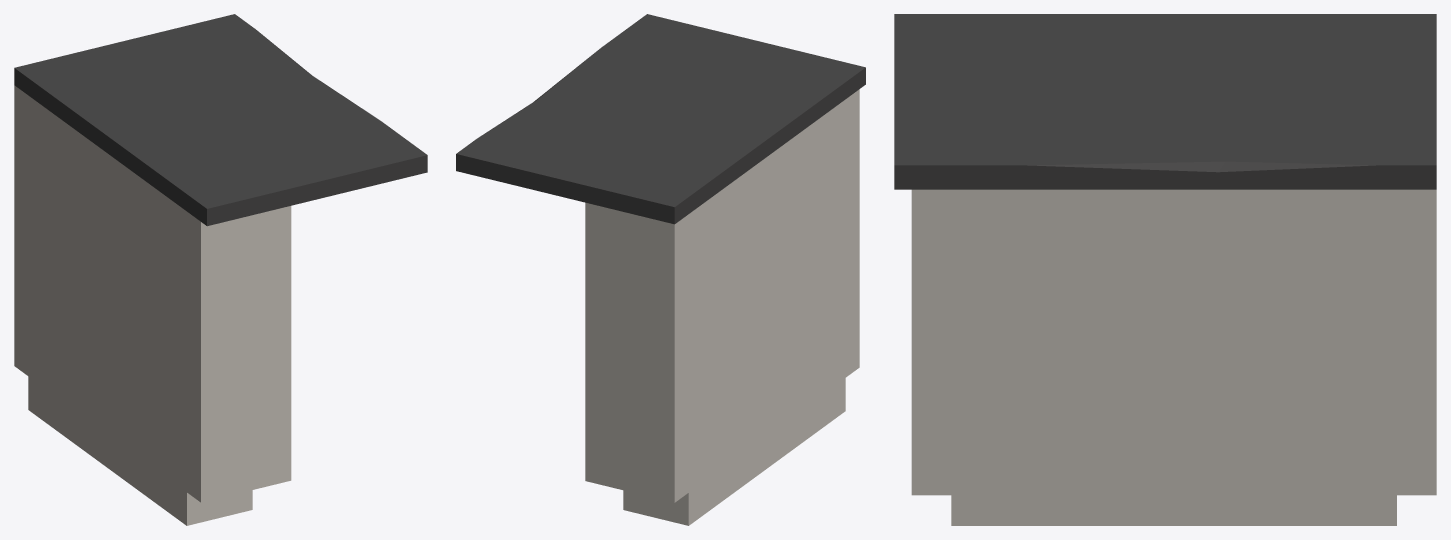
File: SM_Prop_Kitchen_CounterEnd_01.fbx
3 views of the same model, side by side, from view 1: azimuth 30°, elevation 25°; view 2: azimuth 150°, elevation 25°; view 3: azimuth 270°, elevation 25° (orthographic). The views are drawn at different scales.
Visible parts, largest first — view 1: SM_Prop_Kitchen_CounterEnd_01; view 2: SM_Prop_Kitchen_CounterEnd_01; view 3: SM_Prop_Kitchen_CounterEnd_01.
Boxes of the visible parts, x1,y1,x2,y2 form: SM_Prop_Kitchen_CounterEnd_01: [14, 14, 427, 525]; SM_Prop_Kitchen_CounterEnd_01: [456, 14, 865, 525]; SM_Prop_Kitchen_CounterEnd_01: [894, 14, 1436, 525].
Bounding box in the file's own units: 66.06 × 94.96 × 100.
